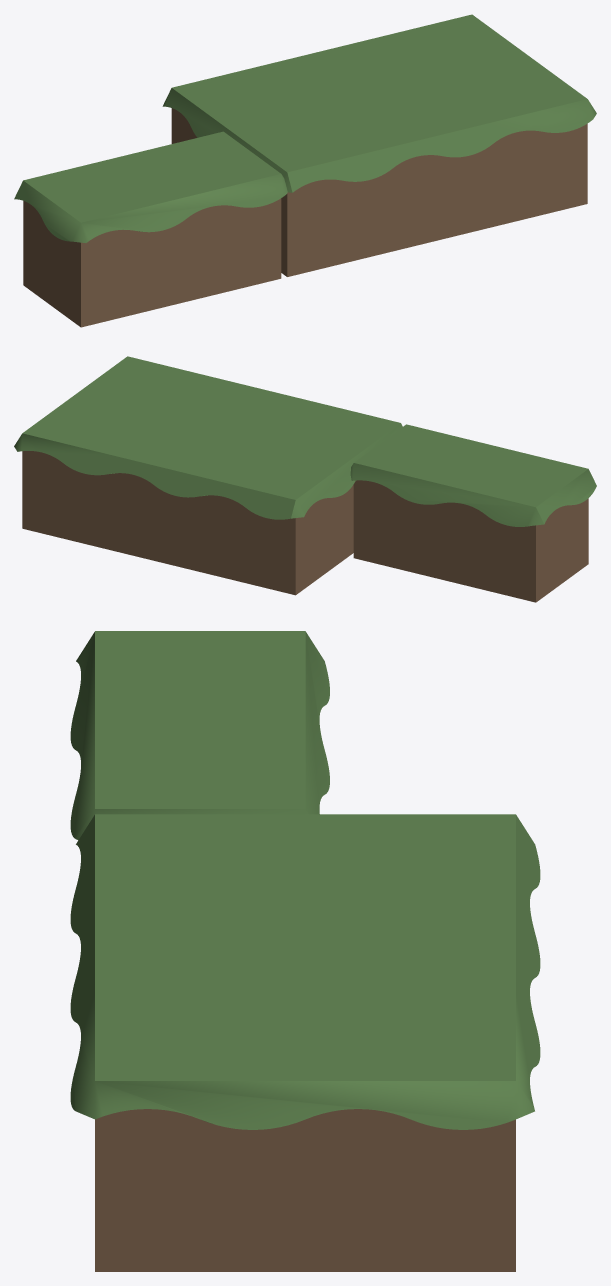
File: wallgroup01_1.fbx
3 views of the same model, one above another, from view 1: azimuth 30°, elevation 25°; view 2: azimuth 150°, elevation 25°; view 3: azimuth 270°, elevation 25° (orthographic). The views are drawn at different scales.
Visible parts, largest first — view 1: blockSnowLong.010, blockSnowLong.009; view 2: blockSnowLong.010, blockSnowLong.009; view 3: blockSnowLong.010, blockSnowLong.009.
Part boxes in pixels (bbox=[...]): blockSnowLong.010: bbox=[162, 14, 596, 276]; blockSnowLong.009: bbox=[14, 131, 287, 327]; blockSnowLong.010: bbox=[14, 356, 402, 595]; blockSnowLong.009: bbox=[350, 424, 596, 602]; blockSnowLong.010: bbox=[70, 814, 540, 1271]; blockSnowLong.009: bbox=[70, 631, 329, 840].
Bounding box in the file's own units: 5.29 × 1 × 2.23.
